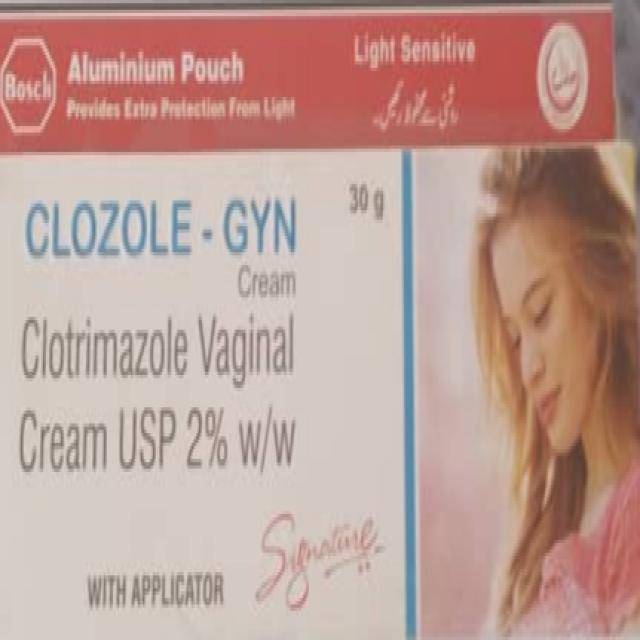drug-name: (26, 185, 306, 264)
